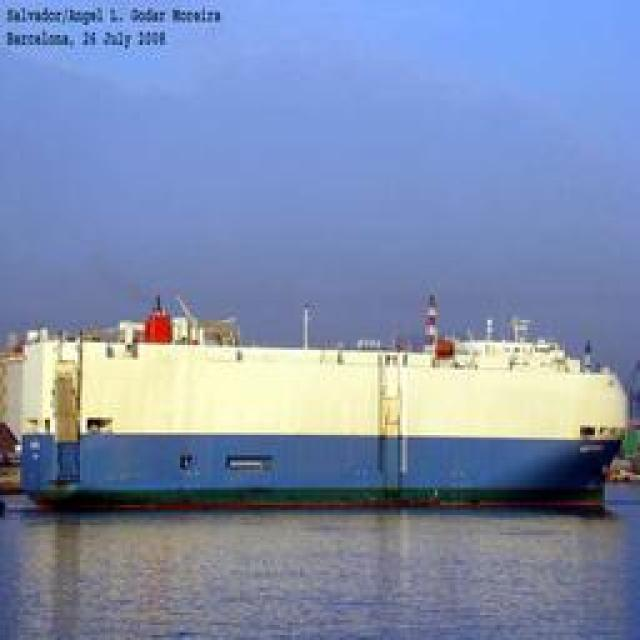CIV_Ship: (9, 322, 629, 512)
